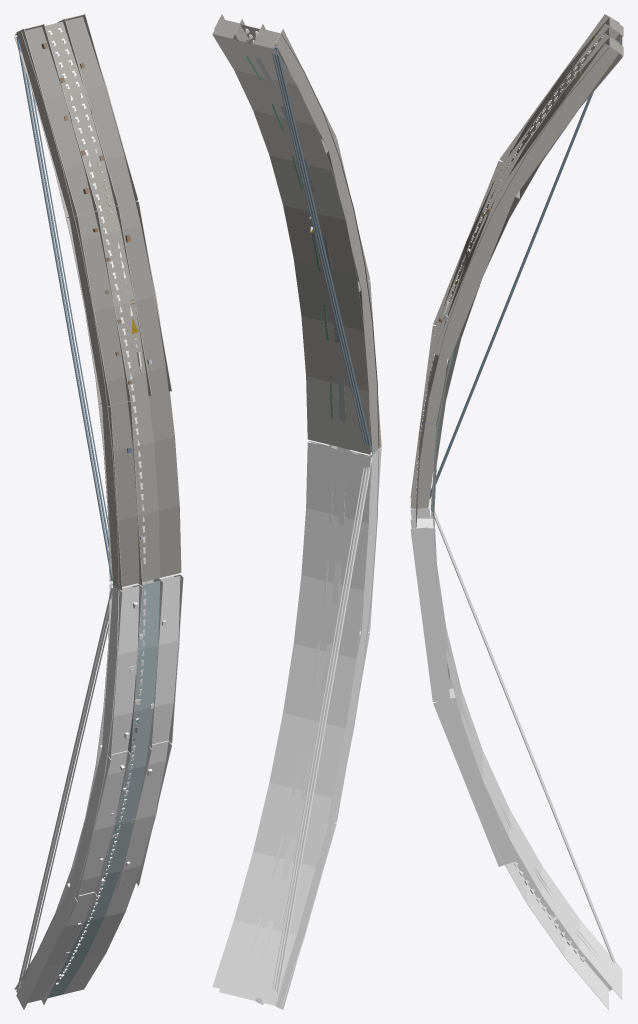
Rendered from xuanshu_interior_C55.glb.
3 renders of one model, left to right at view 1: azimuth 30°, elevation 25°; view 2: azimuth 150°, elevation 25°; view 3: azimuth 270°, elevation 25°, orthographic.
Parts seen in each view (by area): view 1: UNIT-ATM-005_S0; view 2: UNIT-ATM-005_S0; view 3: UNIT-ATM-005_S0.
Boxes of the visible parts, bbox=[...] form: UNIT-ATM-005_S0: bbox=[14, 14, 183, 1009]; UNIT-ATM-005_S0: bbox=[212, 14, 381, 1009]; UNIT-ATM-005_S0: bbox=[410, 14, 623, 1009].
Bounding box in the file's own units: 13.31 × 198 × 39.45.
